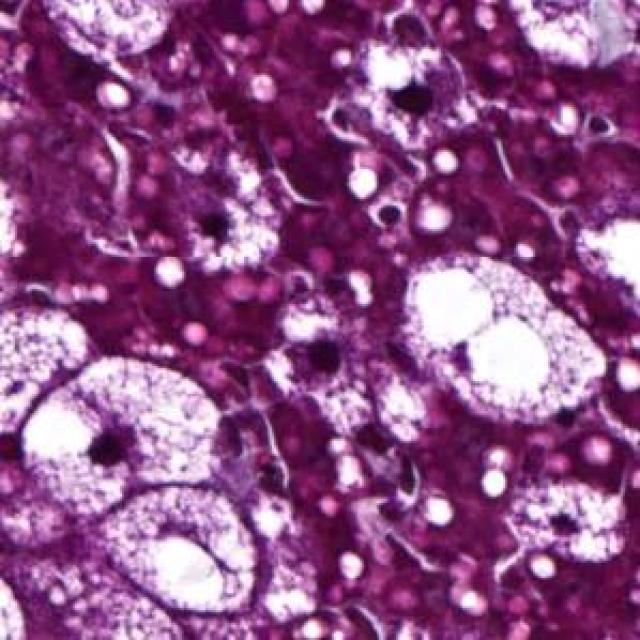ballooning: (400, 252, 614, 434), (13, 349, 227, 520), (94, 479, 272, 616)
